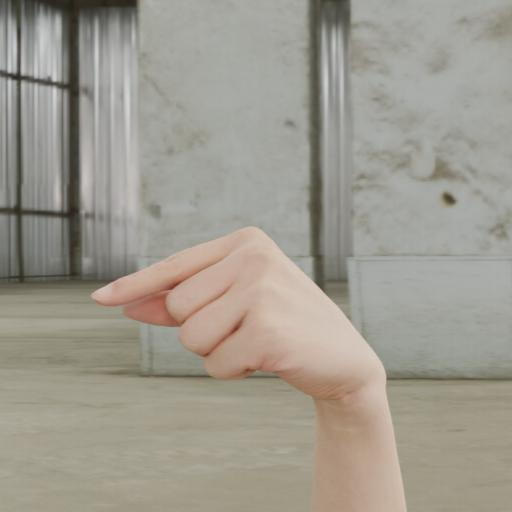G: (77, 209, 407, 466)
